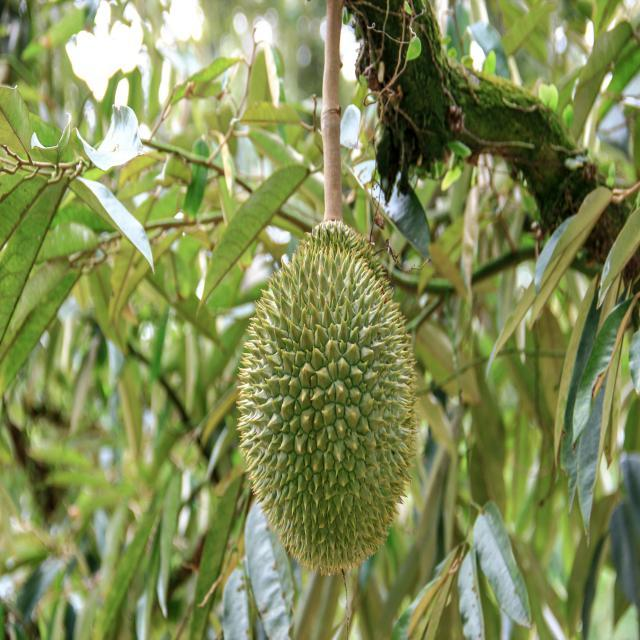immature: (229, 211, 424, 579)
